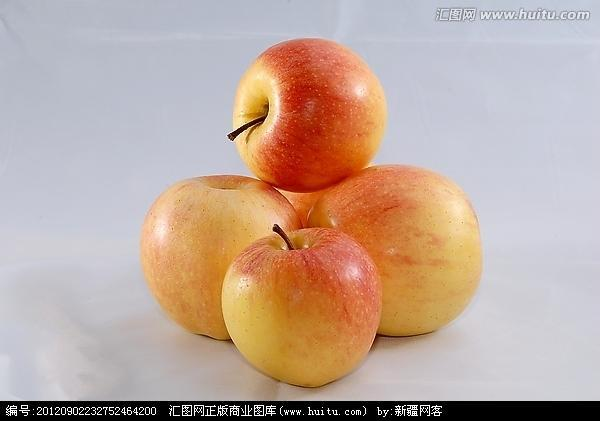apple: (310, 164, 487, 340), (137, 174, 306, 350), (229, 35, 387, 193), (225, 231, 381, 389)
